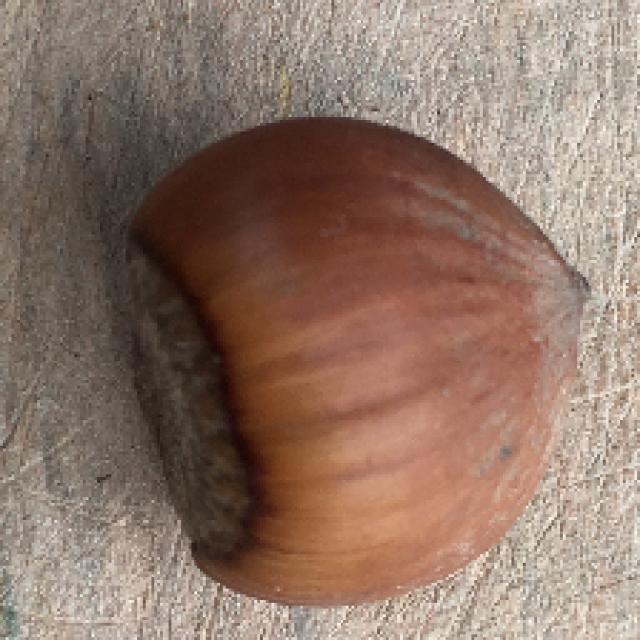DamagedHazelnut: (118, 122, 584, 601)
